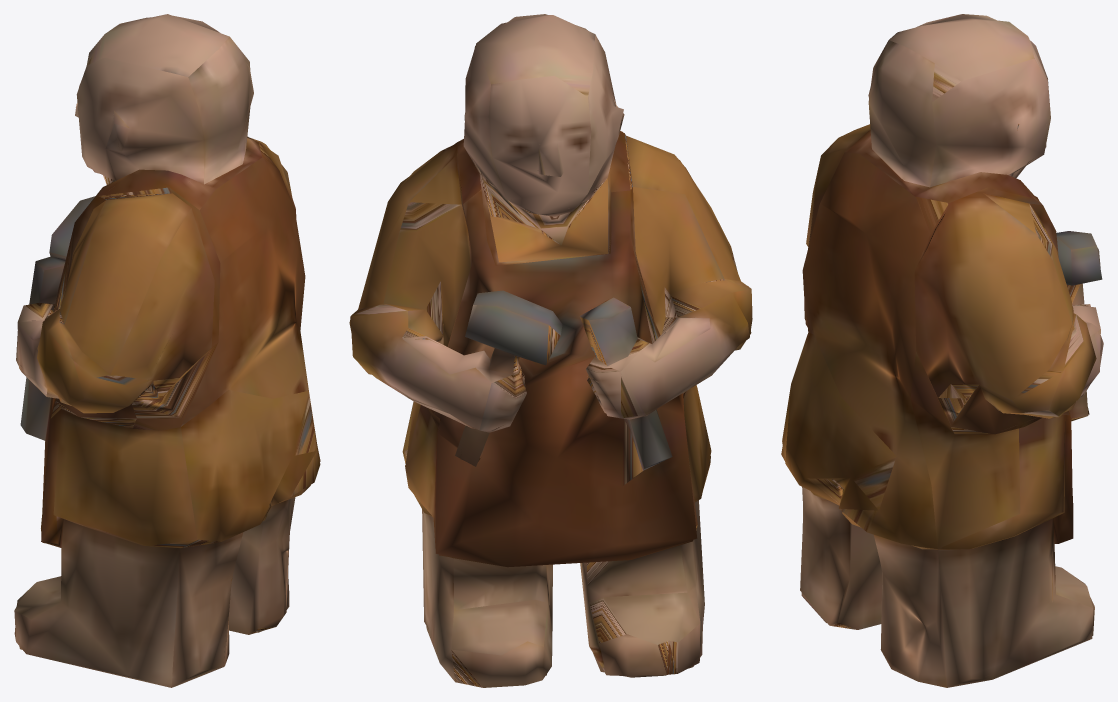
Rendered from piece-mason-lite.glb.
The picture shows the model from 3 angles, left to right: view 1: azimuth 30°, elevation 25°; view 2: azimuth 150°, elevation 25°; view 3: azimuth 270°, elevation 25°; orthographic projection. The views are drawn at different scales.
Parts seen in each view (by area): view 1: geometry_0; view 2: geometry_0; view 3: geometry_0.
Boxes of the visible parts, left/top/right/bottom form: geometry_0: left=14, top=14, right=320, bottom=687; geometry_0: left=349, top=14, right=752, bottom=687; geometry_0: left=781, top=14, right=1103, bottom=687.
Size of the model in its own units: 0.4611 by 0.8593 by 0.411.
1 material, 1 textured.
